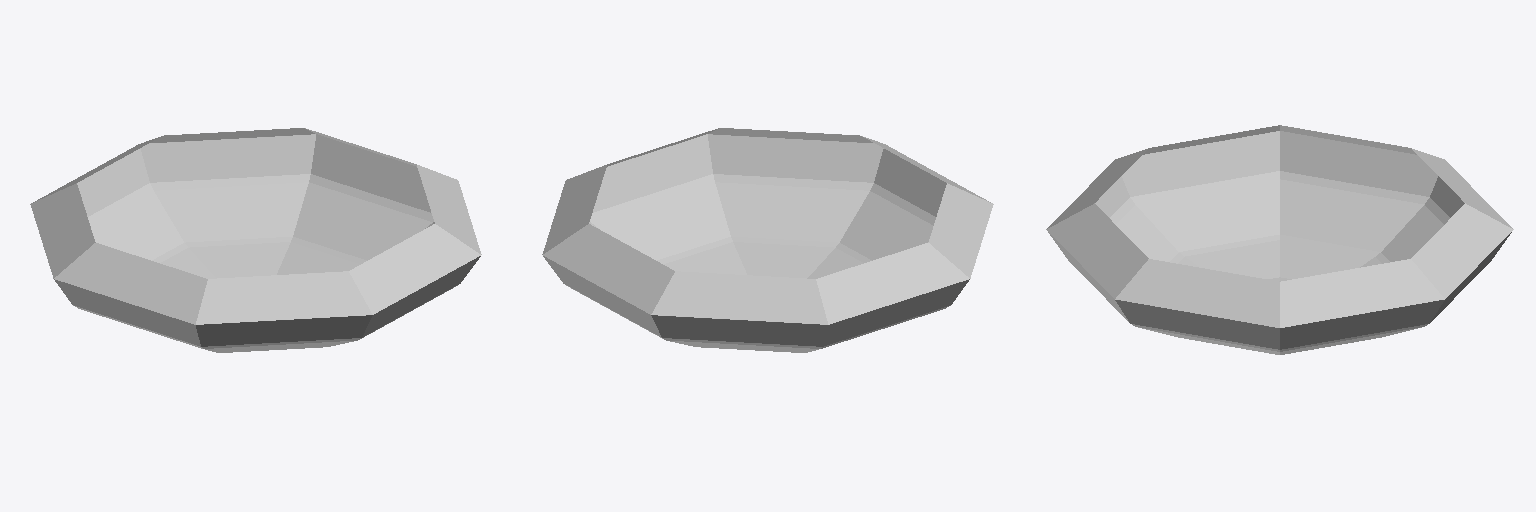
Rendered from CeilingLight.obj.
3 renders of one model, left to right at view 1: azimuth 30°, elevation 25°; view 2: azimuth 150°, elevation 25°; view 3: azimuth 270°, elevation 25°, orthographic.
Parts seen in each view (by area): view 1: Cylinder_Cylinder.002; view 2: Cylinder_Cylinder.002; view 3: Cylinder_Cylinder.002.
Boxes of the visible parts, <box> form: Cylinder_Cylinder.002: <box>30,128,481,352</box>; Cylinder_Cylinder.002: <box>542,128,993,352</box>; Cylinder_Cylinder.002: <box>1046,125,1513,354</box>.
Size of the model in its own units: 9.57 by 2.38 by 9.57.